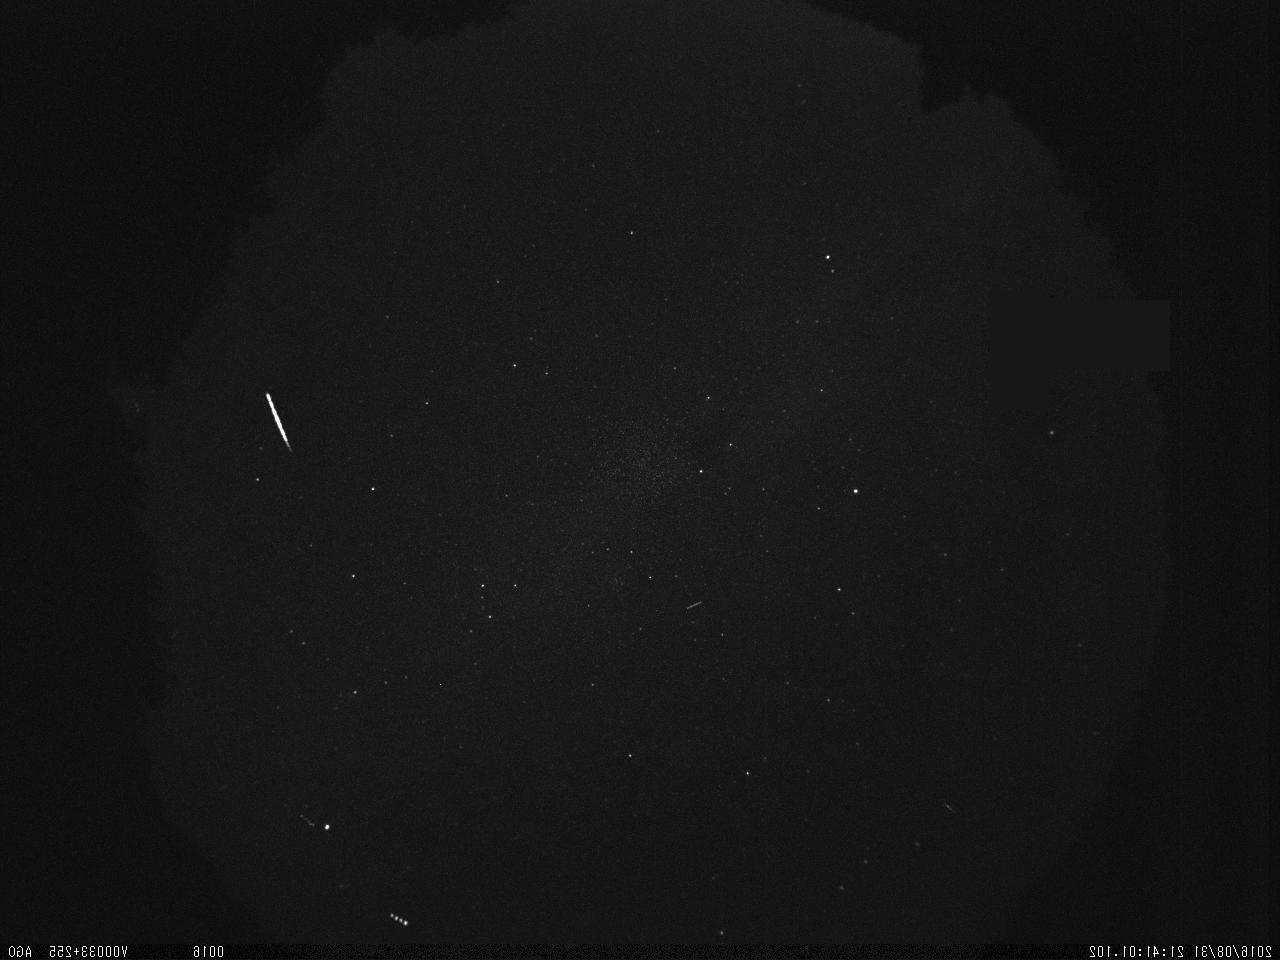meteor: (261, 383, 302, 459)
satelite: (378, 906, 416, 933)
